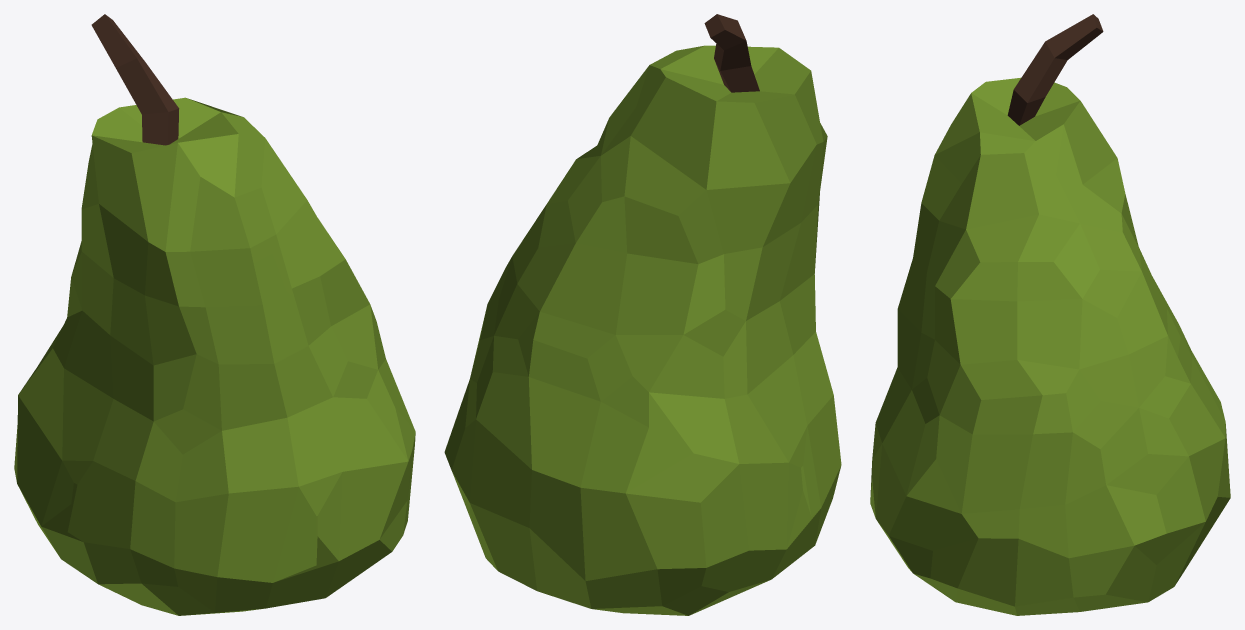
File: pear.glb
3 renders of one model, left to right at view 1: azimuth 30°, elevation 25°; view 2: azimuth 150°, elevation 25°; view 3: azimuth 270°, elevation 25°, orthographic. The views are drawn at different scales.
Parts seen in each view (by area): view 1: pear; view 2: pear; view 3: pear.
Boxes of the visible parts, bbox=[...] form: pear: bbox=[14, 14, 415, 615]; pear: bbox=[444, 14, 841, 615]; pear: bbox=[870, 14, 1230, 615].
Size of the model in its own units: 1.49 by 2.52 by 1.58.
